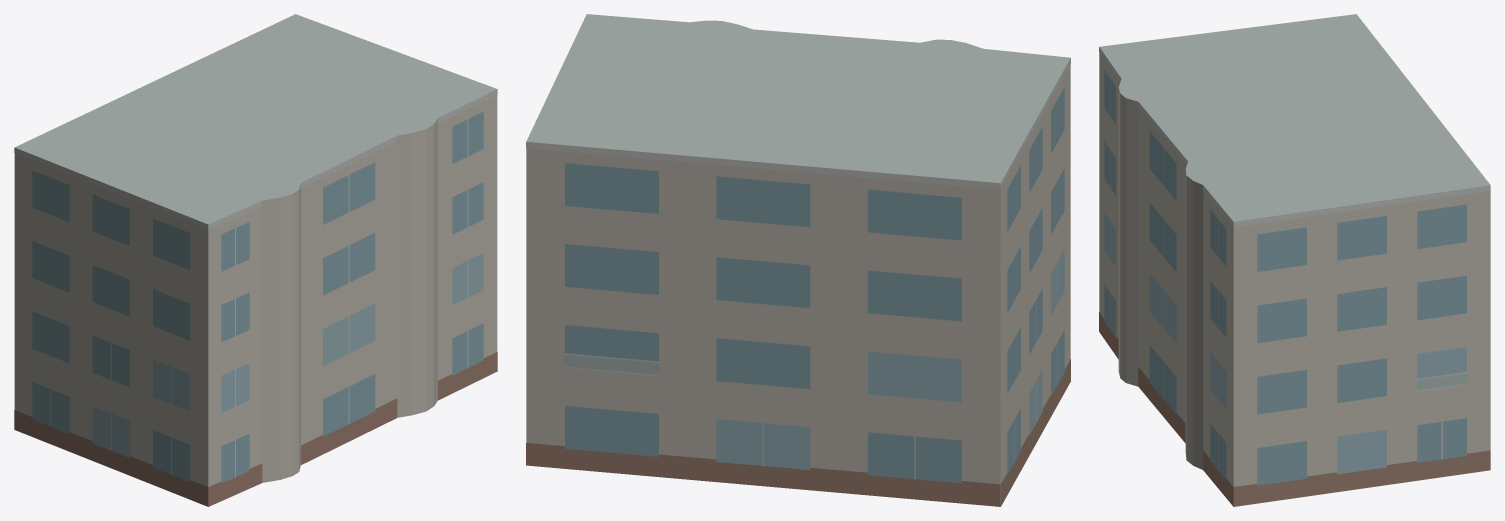
Rendered from survey-upis-33032619.glb.
3 views of the same model, side by side, from view 1: azimuth 30°, elevation 25°; view 2: azimuth 150°, elevation 25°; view 3: azimuth 270°, elevation 25° (orthographic). The views are drawn at different scales.
Visible parts, largest first — view 1: survey-upis-33032619.tmp; view 2: survey-upis-33032619.tmp; view 3: survey-upis-33032619.tmp.
Boxes of the visible parts, x1,y1,x2,y2 form: survey-upis-33032619.tmp: (14,14,497,506); survey-upis-33032619.tmp: (526,14,1070,506); survey-upis-33032619.tmp: (1099,14,1490,506).
Bounding box in the file's own units: 19.1 × 12.2 × 15.2.
